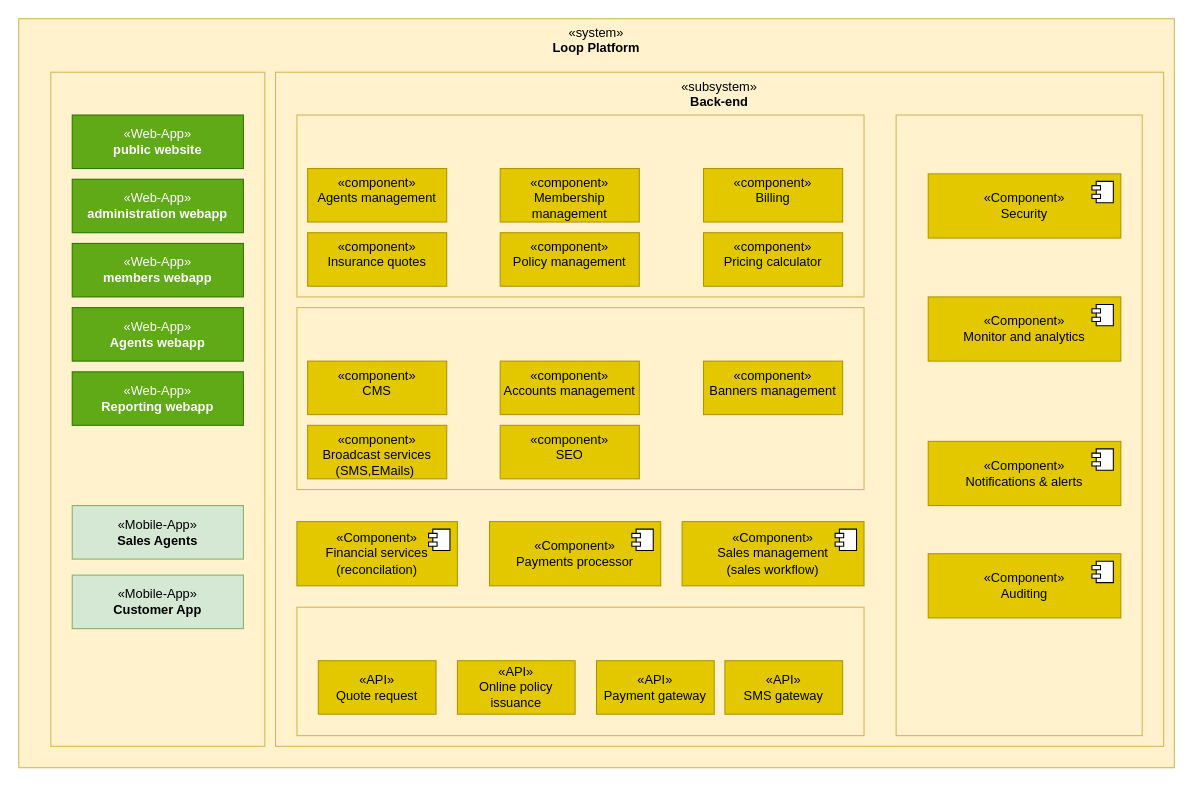
Some shapes in this 1193 by 786 pixel diagram are drawn without their labels. Each missing label, with the box of its shape:
«subsystem» Front-end: (50, 71, 265, 746)
«subsystem» Infrastructure services: (895, 114, 1142, 736)
«subsystem» Insurance services: (296, 114, 864, 297)
«subsystem» Integration API's: (296, 606, 864, 736)
«subsystem» Web contents management services: (296, 307, 864, 490)
